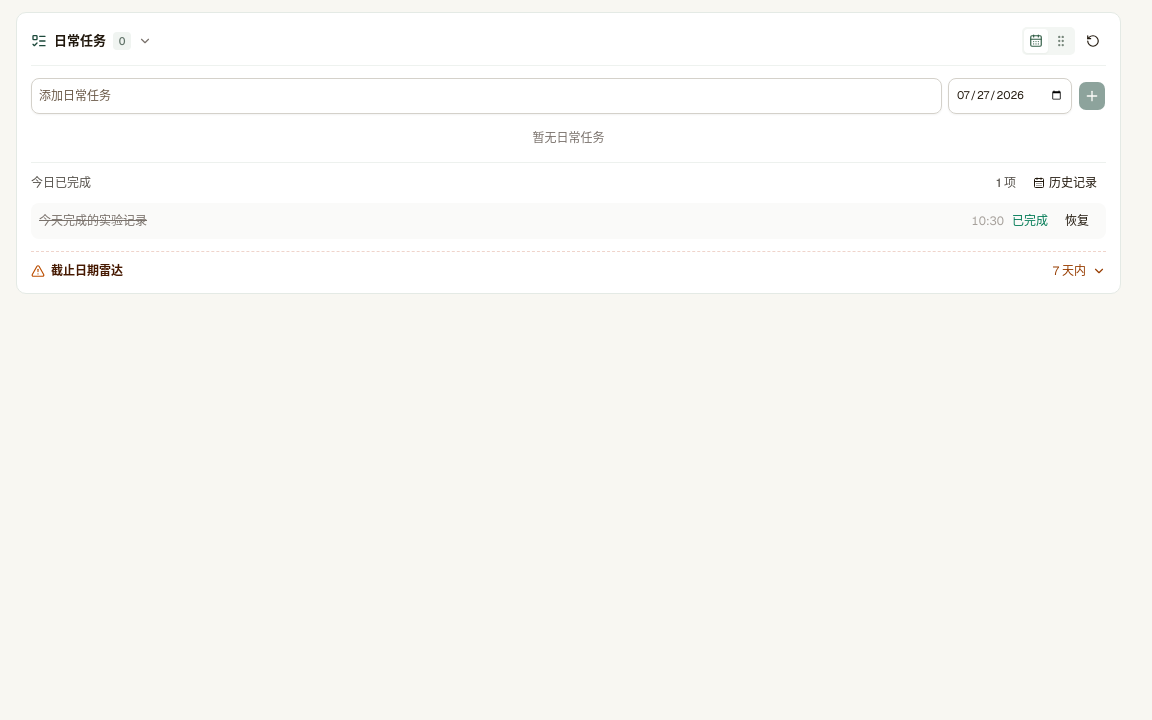
Scenario: DailyTaskPanel completion archive › shows only today's completions in the panel and groups older records in history
This screenshot has width=1152, height=720.
Expected: the text "今日已完成" is shown, [31,175,91,191]
Expected: the text "今天完成的实验记录" is shown, [39,213,147,229]
Click the button "历史记录" at (1065, 183), box [1024,171,1106,195]
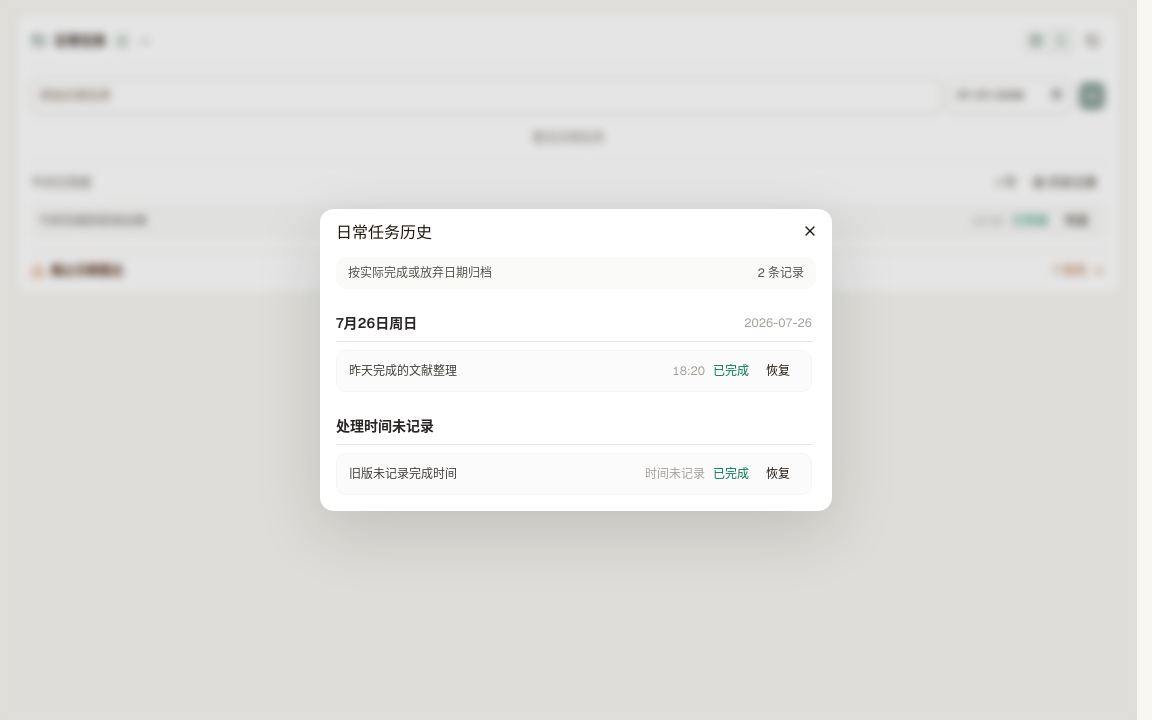
Now the text "昨天完成的文献整理" is shown, box [349,363,457,379]
Now the text "2026-07-26" is shown, box [744,315,812,331]
Now the heading "处理时间未记录" is shown, box [336,416,434,436]
